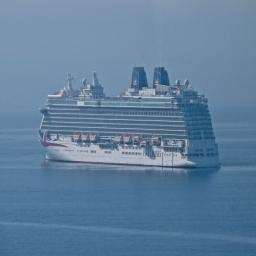cruises: (37, 62, 227, 177)
